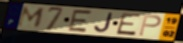7: (46, 6, 64, 32)
E: (66, 9, 95, 34), (115, 13, 143, 37)
J: (93, 12, 115, 34)
M: (16, 5, 47, 28)
P: (138, 14, 163, 37)
